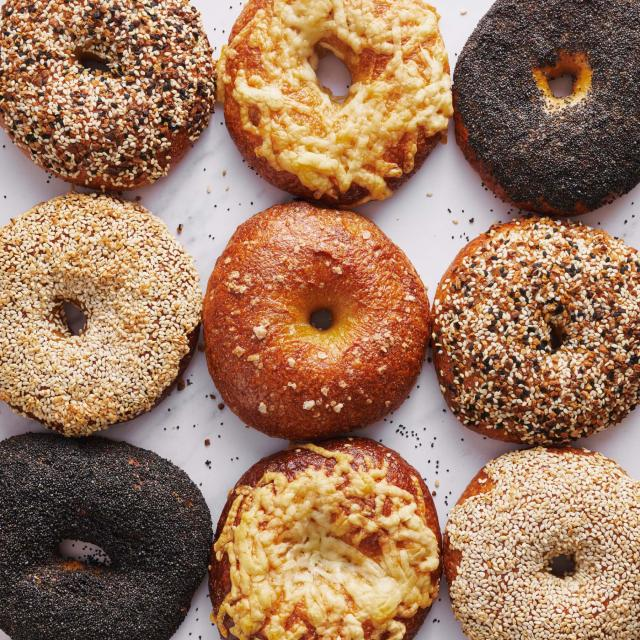Bagel: (202, 201, 430, 440), (0, 192, 202, 436), (431, 216, 640, 445)
